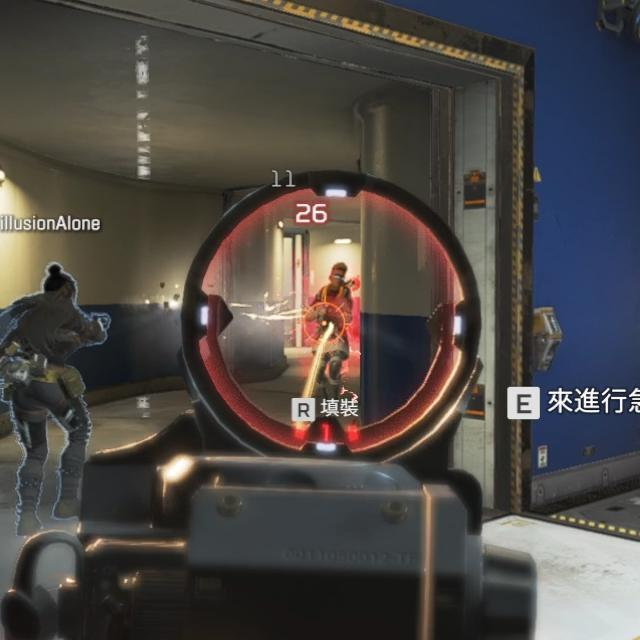avatar: (3, 261, 93, 539), (304, 258, 358, 396)
